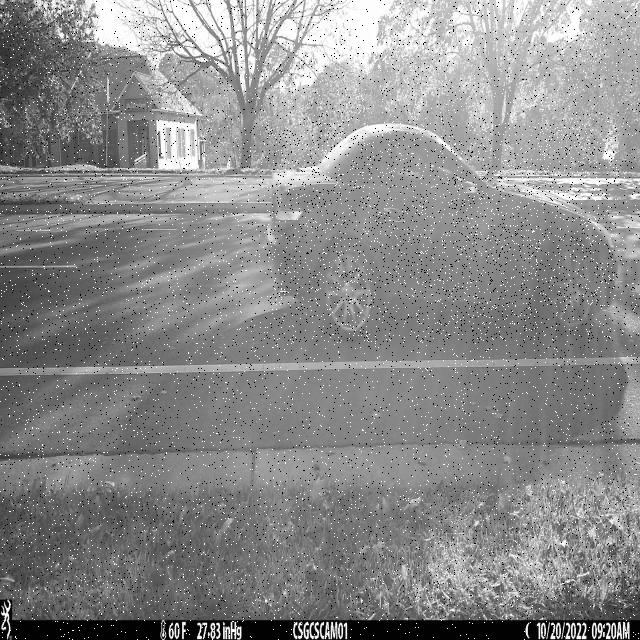Sedan: (267, 124, 617, 342)
